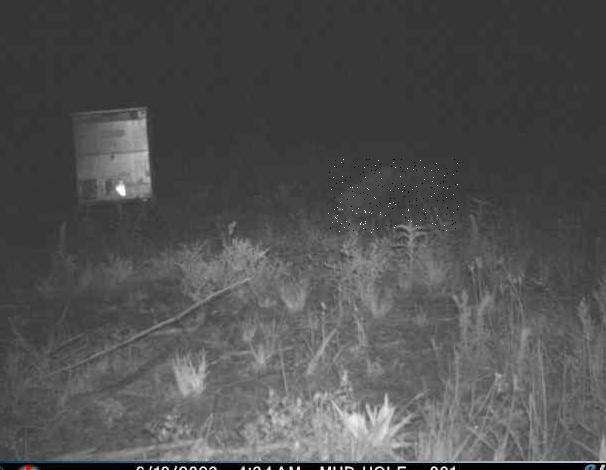Hog: (329, 160, 460, 234)
